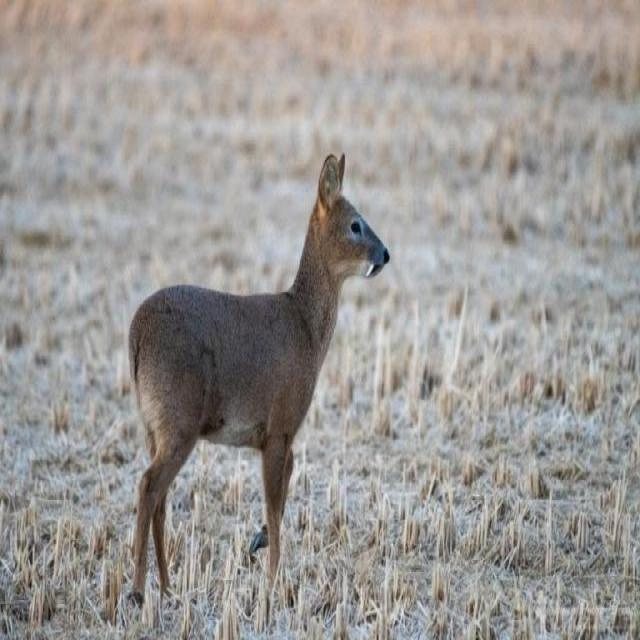deer: (106, 139, 399, 608)
